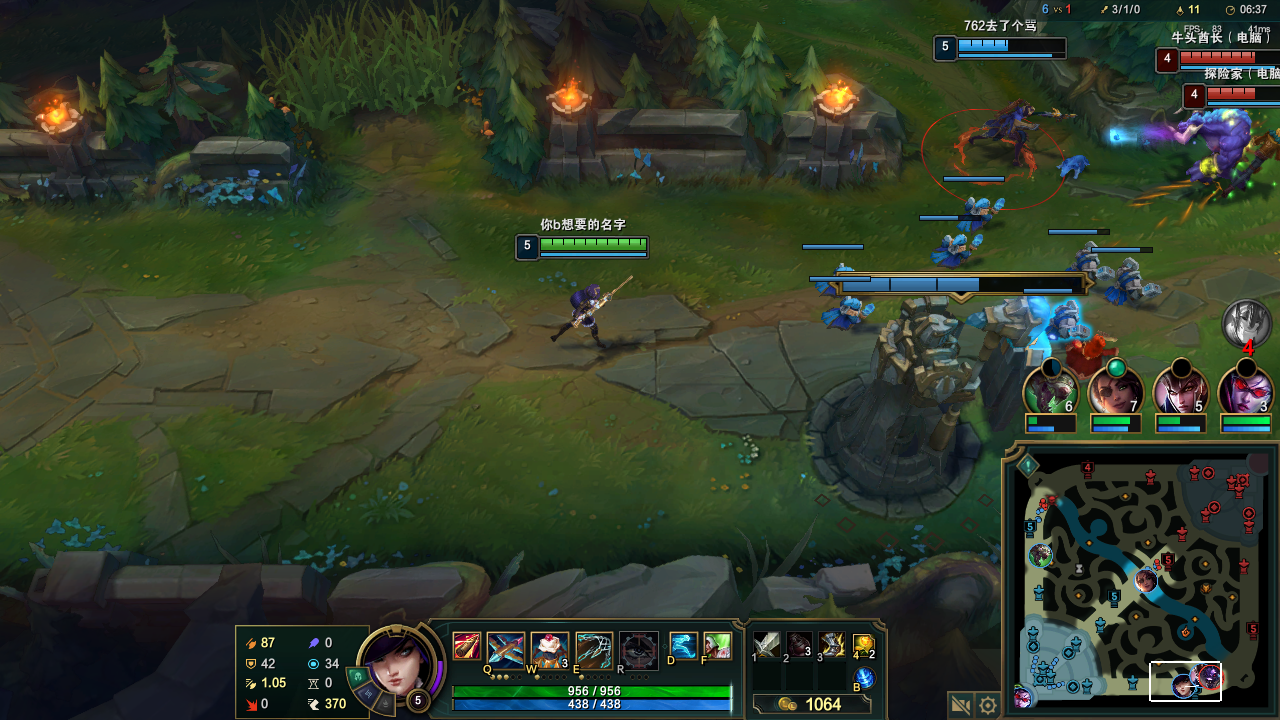DFXB: (1072, 335, 1116, 371)
DFYX: (1175, 52, 1249, 64), (1208, 88, 1276, 97)
WFXB: (1109, 259, 1147, 305), (1062, 243, 1098, 286), (925, 236, 976, 264), (827, 298, 866, 330), (823, 265, 862, 297), (964, 197, 994, 226)
